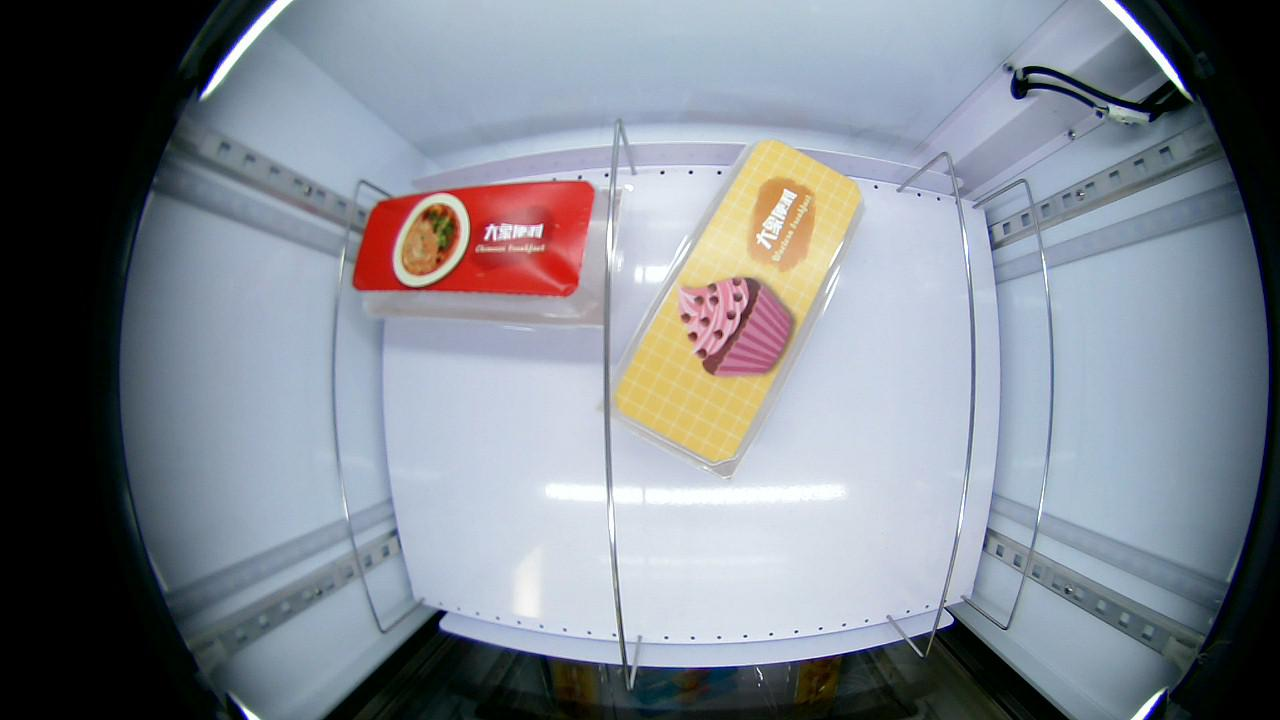goods: (681, 275, 791, 374), (392, 193, 474, 289)
